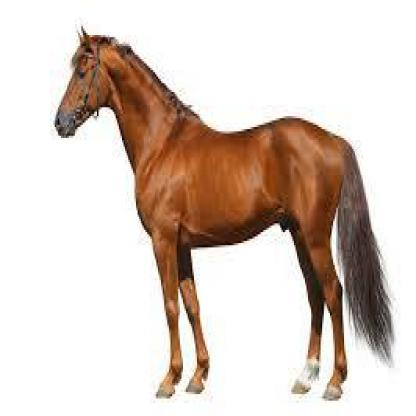horse: (48, 18, 398, 400)
